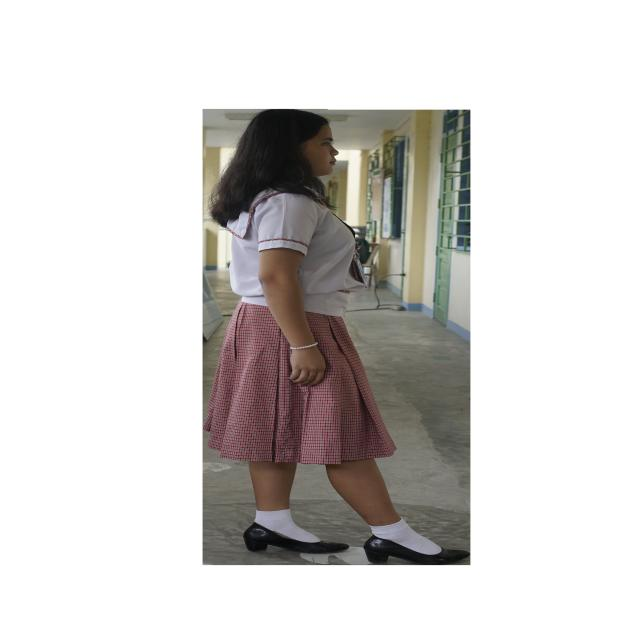pologirl: (228, 190, 365, 316)
shoes: (243, 522, 349, 554), (363, 535, 470, 566)
skirt: (203, 302, 396, 464)
